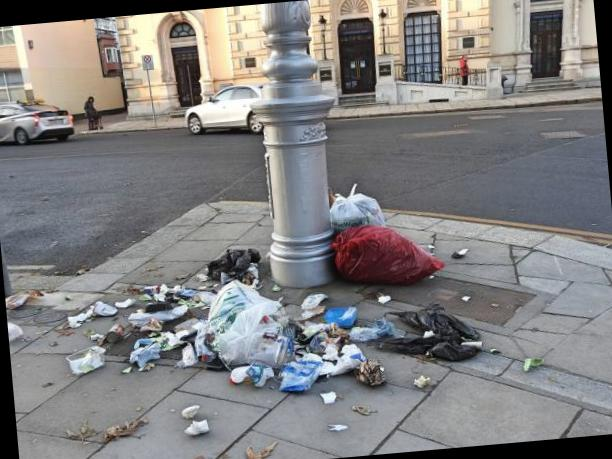trash: (164, 277, 411, 414), (318, 216, 459, 288), (386, 280, 494, 372), (318, 178, 421, 236), (121, 270, 212, 328), (200, 242, 269, 296), (124, 323, 183, 376), (54, 334, 116, 383), (62, 291, 130, 330), (511, 348, 550, 383), (5, 279, 35, 312), (181, 418, 215, 438), (350, 396, 376, 420), (319, 416, 346, 435), (182, 398, 200, 420), (321, 387, 341, 406)
